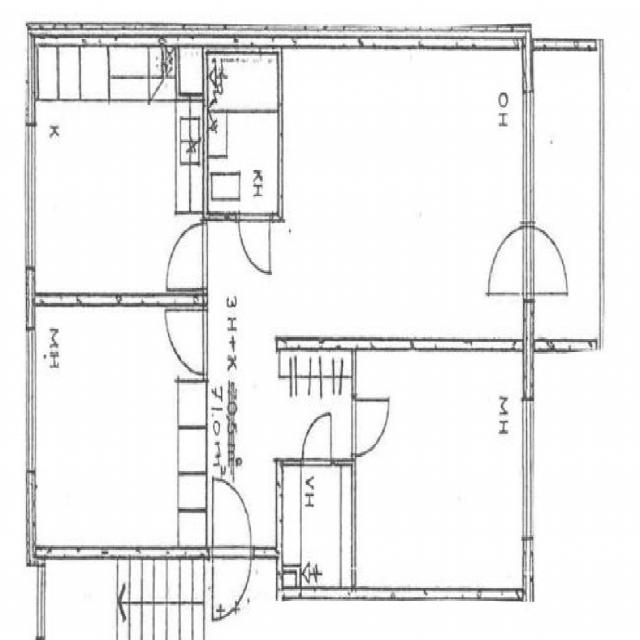door: (522, 225, 574, 292), (482, 225, 534, 292), (212, 545, 250, 620), (164, 310, 208, 374), (164, 223, 208, 287), (212, 483, 250, 557), (351, 399, 390, 455), (238, 211, 270, 271), (302, 412, 330, 464)
